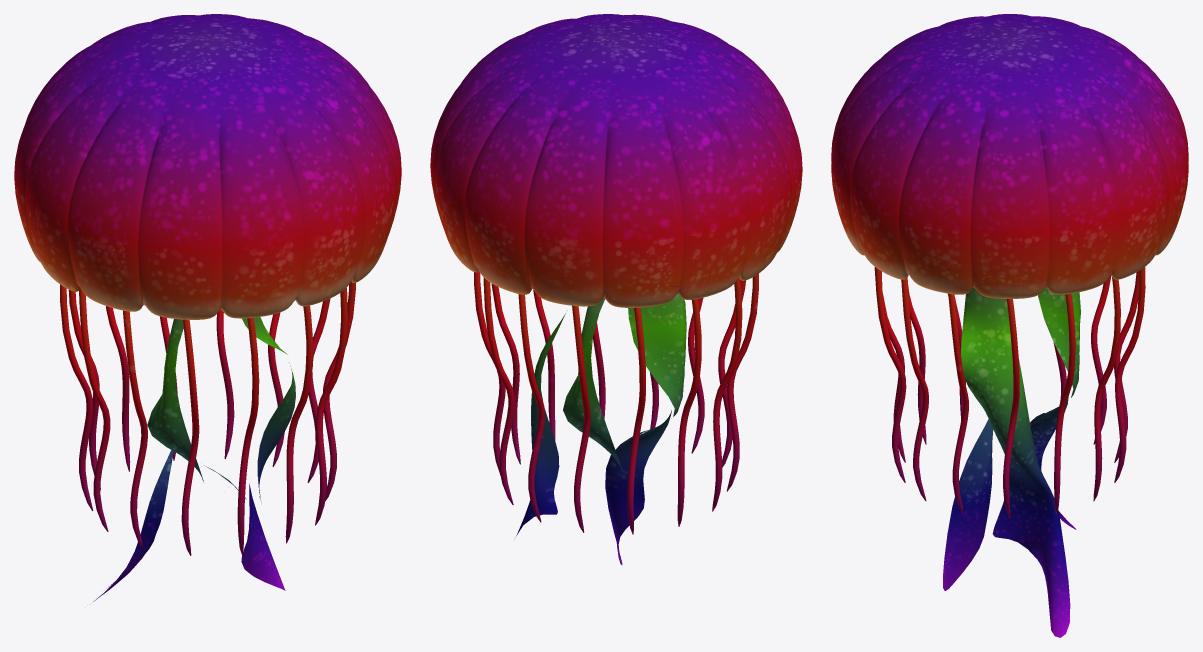
The model's file is jellyfish.glb.
3 renders of one model, left to right at view 1: azimuth 30°, elevation 25°; view 2: azimuth 150°, elevation 25°; view 3: azimuth 270°, elevation 25°, orthographic. The views are drawn at different scales.
Parts seen in each view (by area): view 1: Cylinder, BezierCurve; view 2: Cylinder, BezierCurve; view 3: Cylinder, BezierCurve.
Part boxes in pixels (bbox=[...]): Cylinder: bbox=[14, 14, 401, 601]; BezierCurve: bbox=[60, 281, 355, 555]; Cylinder: bbox=[430, 14, 802, 564]; BezierCurve: bbox=[474, 271, 758, 534]; Cylinder: bbox=[831, 14, 1188, 637]; BezierCurve: bbox=[874, 267, 1145, 518].
Size of the model in its own units: 1.25 by 2.12 by 1.24.
1 material, 1 textured.
